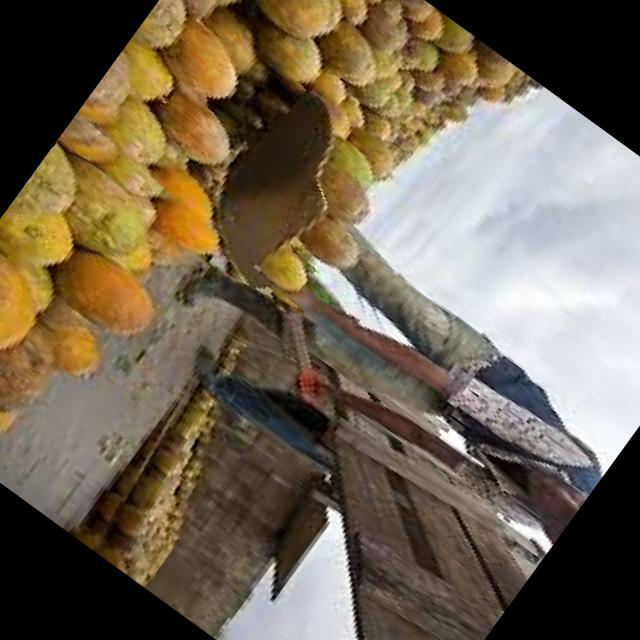Organic: (56, 0, 549, 356), (0, 139, 232, 518), (70, 326, 294, 587)
